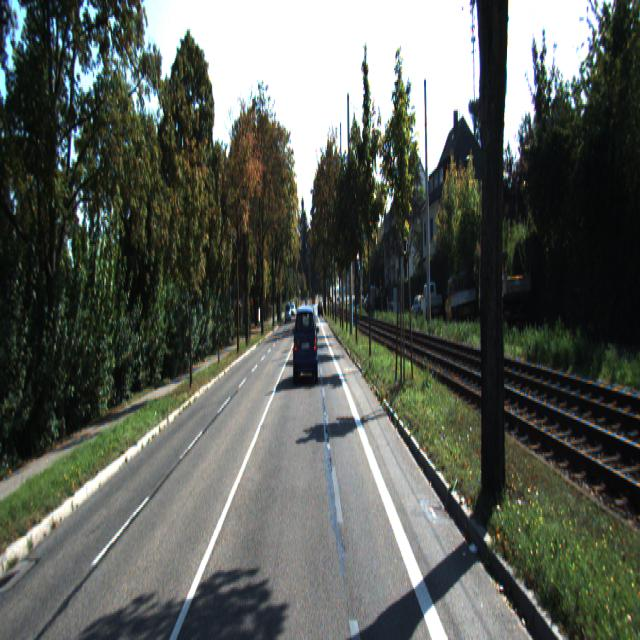Car: (478, 241, 531, 327), (292, 301, 318, 385), (444, 272, 477, 327), (421, 281, 442, 321)
